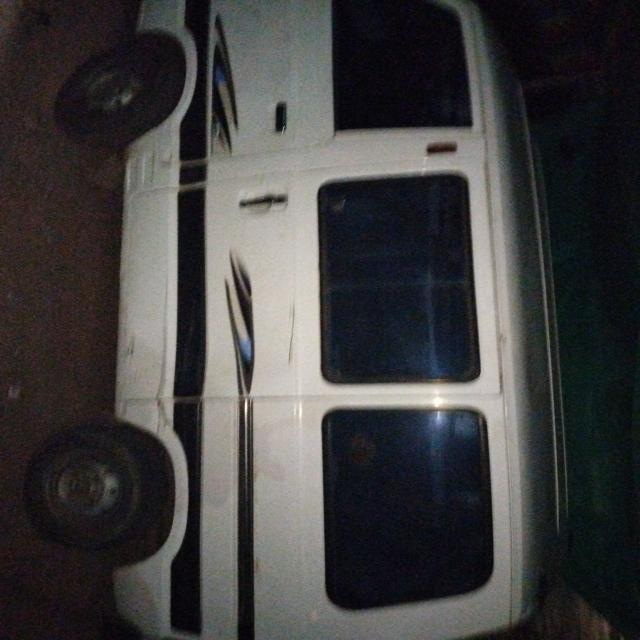Car: (62, 0, 558, 640)
